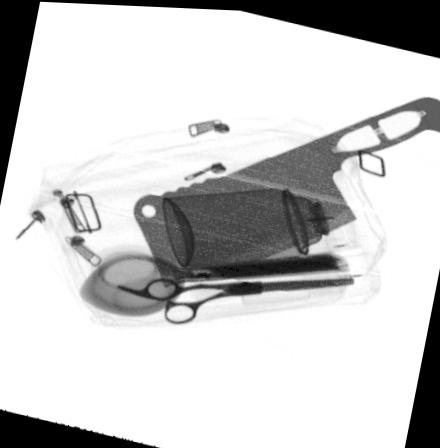Knife: (132, 92, 440, 284)
Powerbank: (181, 249, 350, 279)
Scissors: (115, 274, 356, 322)
Sprayer: (162, 179, 362, 263)
